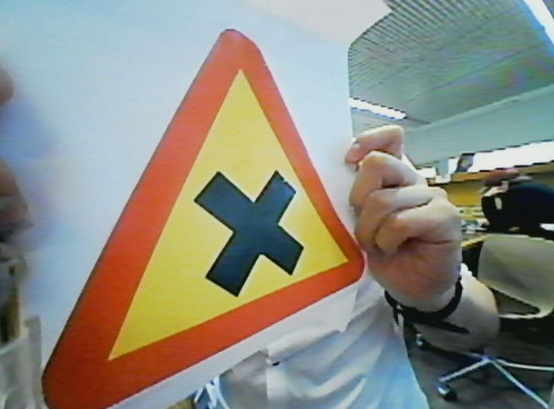junction: (23, 29, 362, 409)
